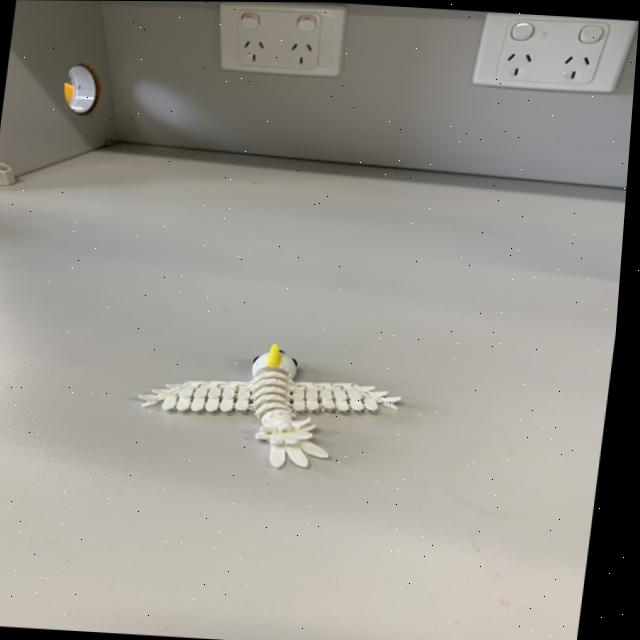cockatoo: (123, 331, 412, 482)
